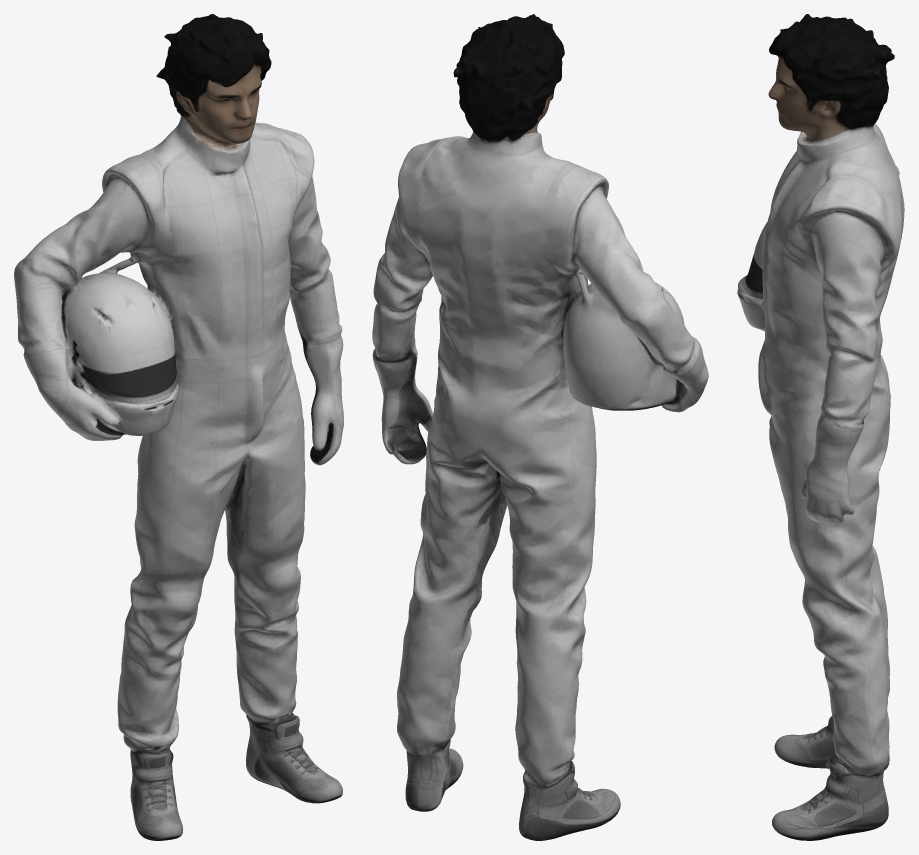
3 renders of one model, left to right at view 1: azimuth 30°, elevation 25°; view 2: azimuth 150°, elevation 25°; view 3: azimuth 270°, elevation 25°, orthographic. The views are drawn at different scales.
Bounding box in the file's own units: 0.8415 × 2 × 0.3923.
Materials: 1 (1 with a texture image).
